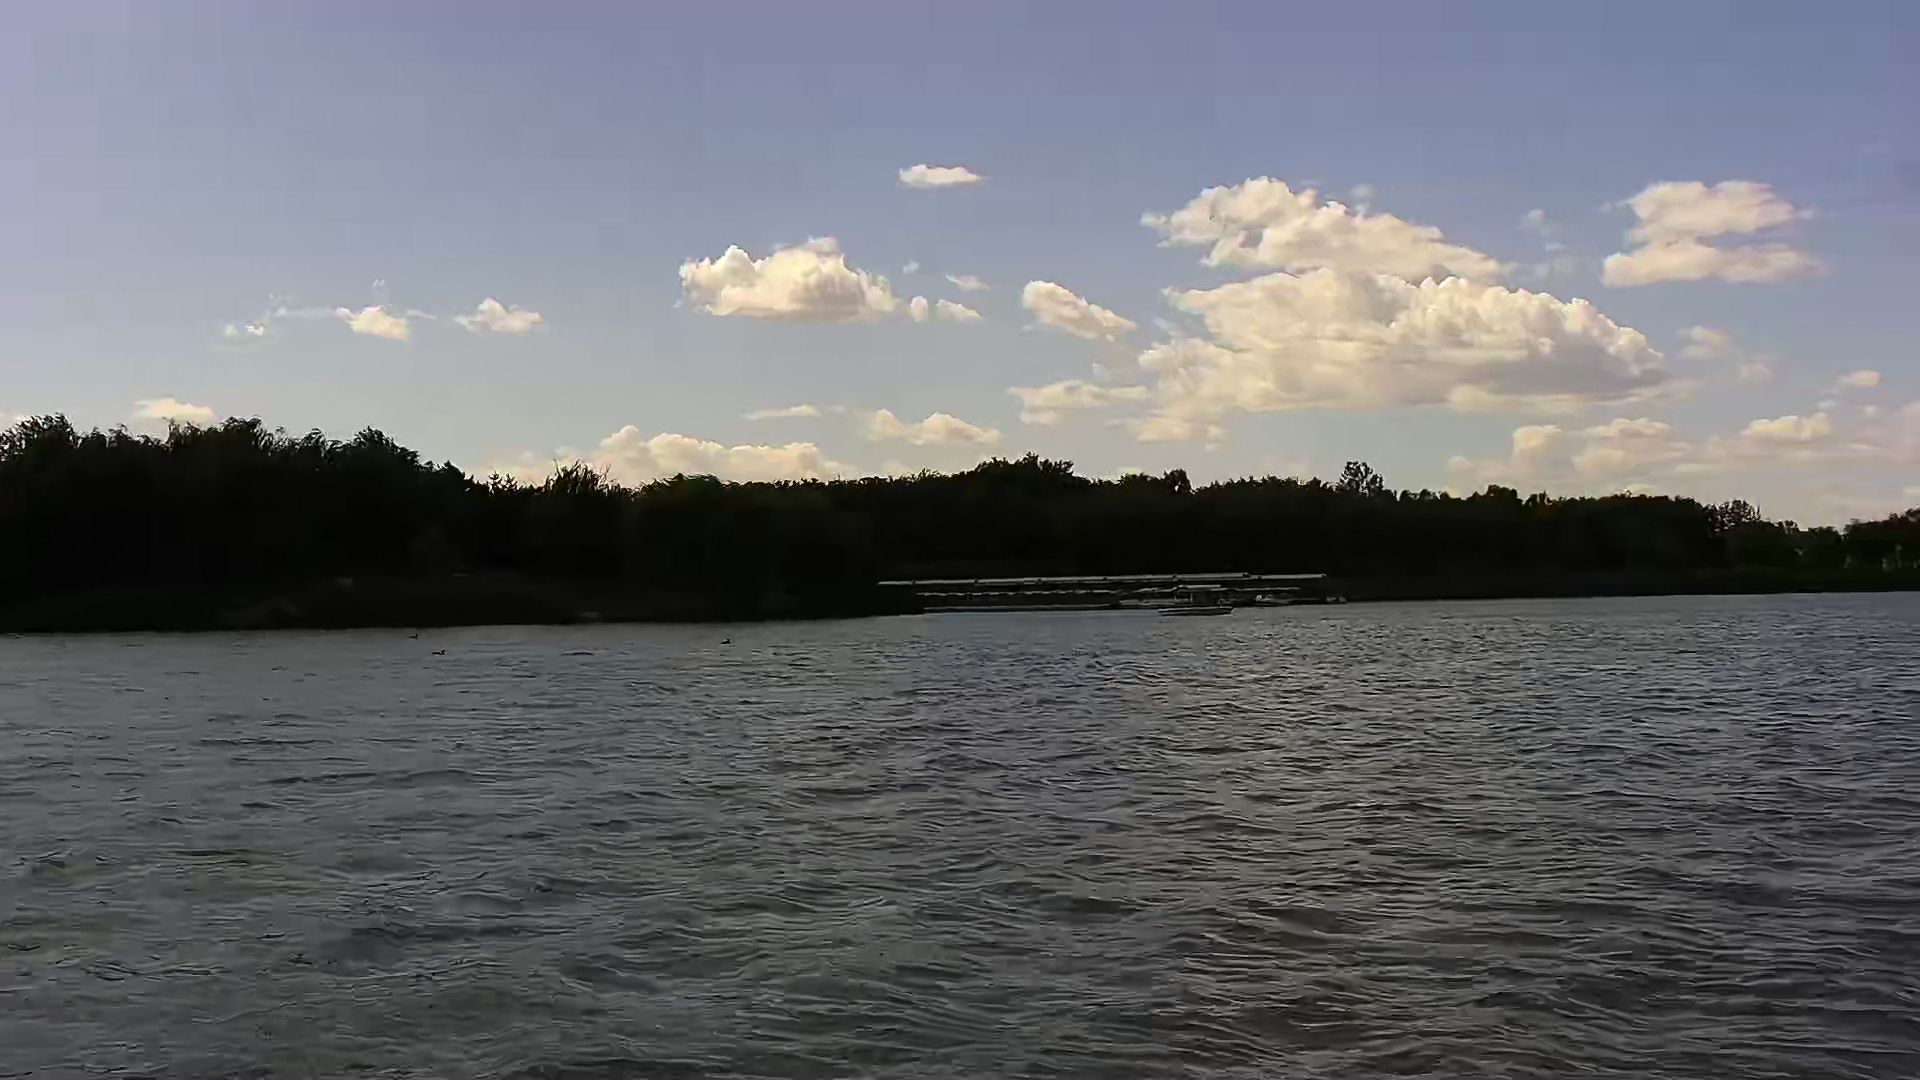boat: (1156, 582, 1236, 621)
harbor: (876, 568, 1354, 611)
